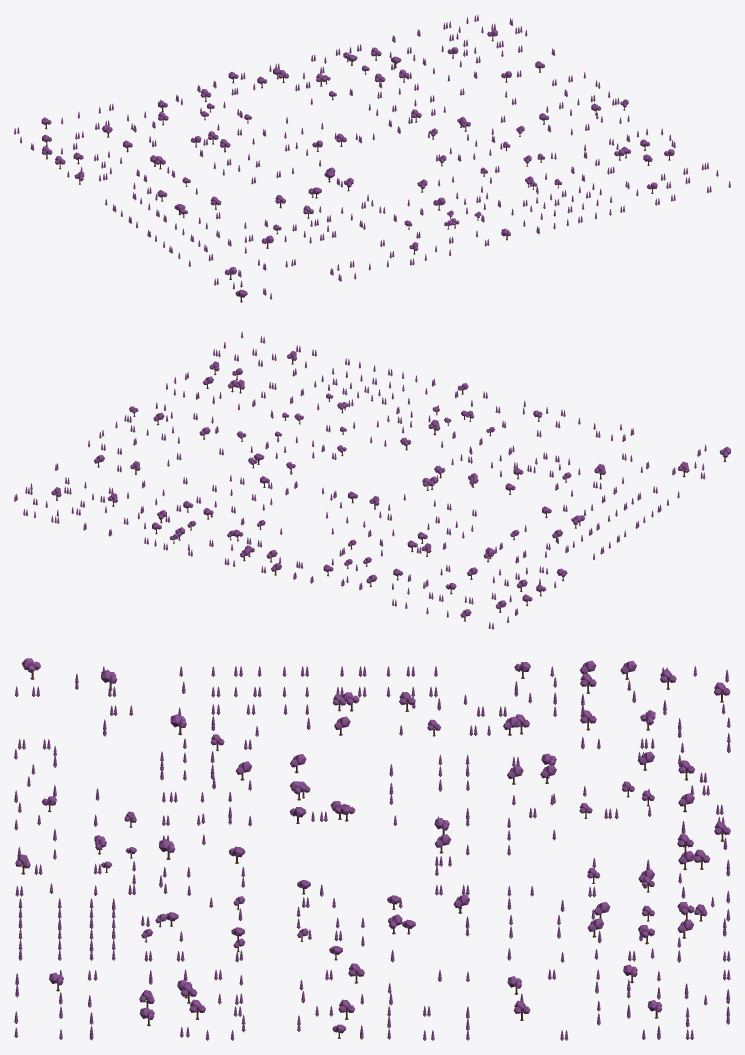
The model's file is Trees (polluted ver) 1.fbx.
3 views of the same model, one above another, from view 1: azimuth 30°, elevation 25°; view 2: azimuth 150°, elevation 25°; view 3: azimuth 270°, elevation 25° (orthographic). The views are drawn at different scales.
Bounding box in the file's own units: 23894 × 605 × 19779.
